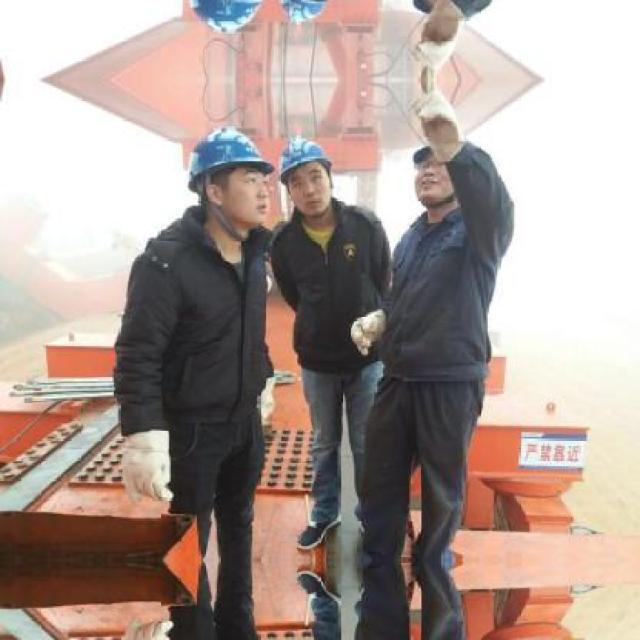helmet: (179, 118, 276, 239), (274, 130, 334, 224), (178, 0, 277, 43), (274, 0, 335, 31)
